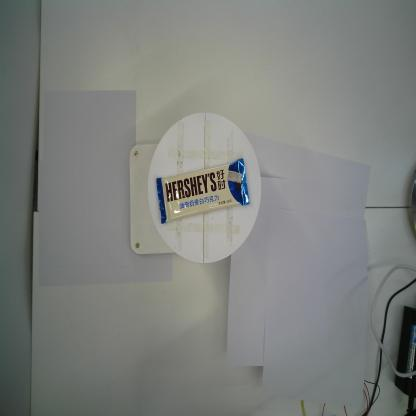Chocolate: (152, 157, 252, 228)
